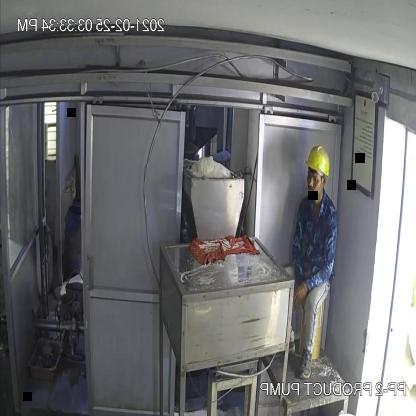helmet: (300, 141, 332, 179)
